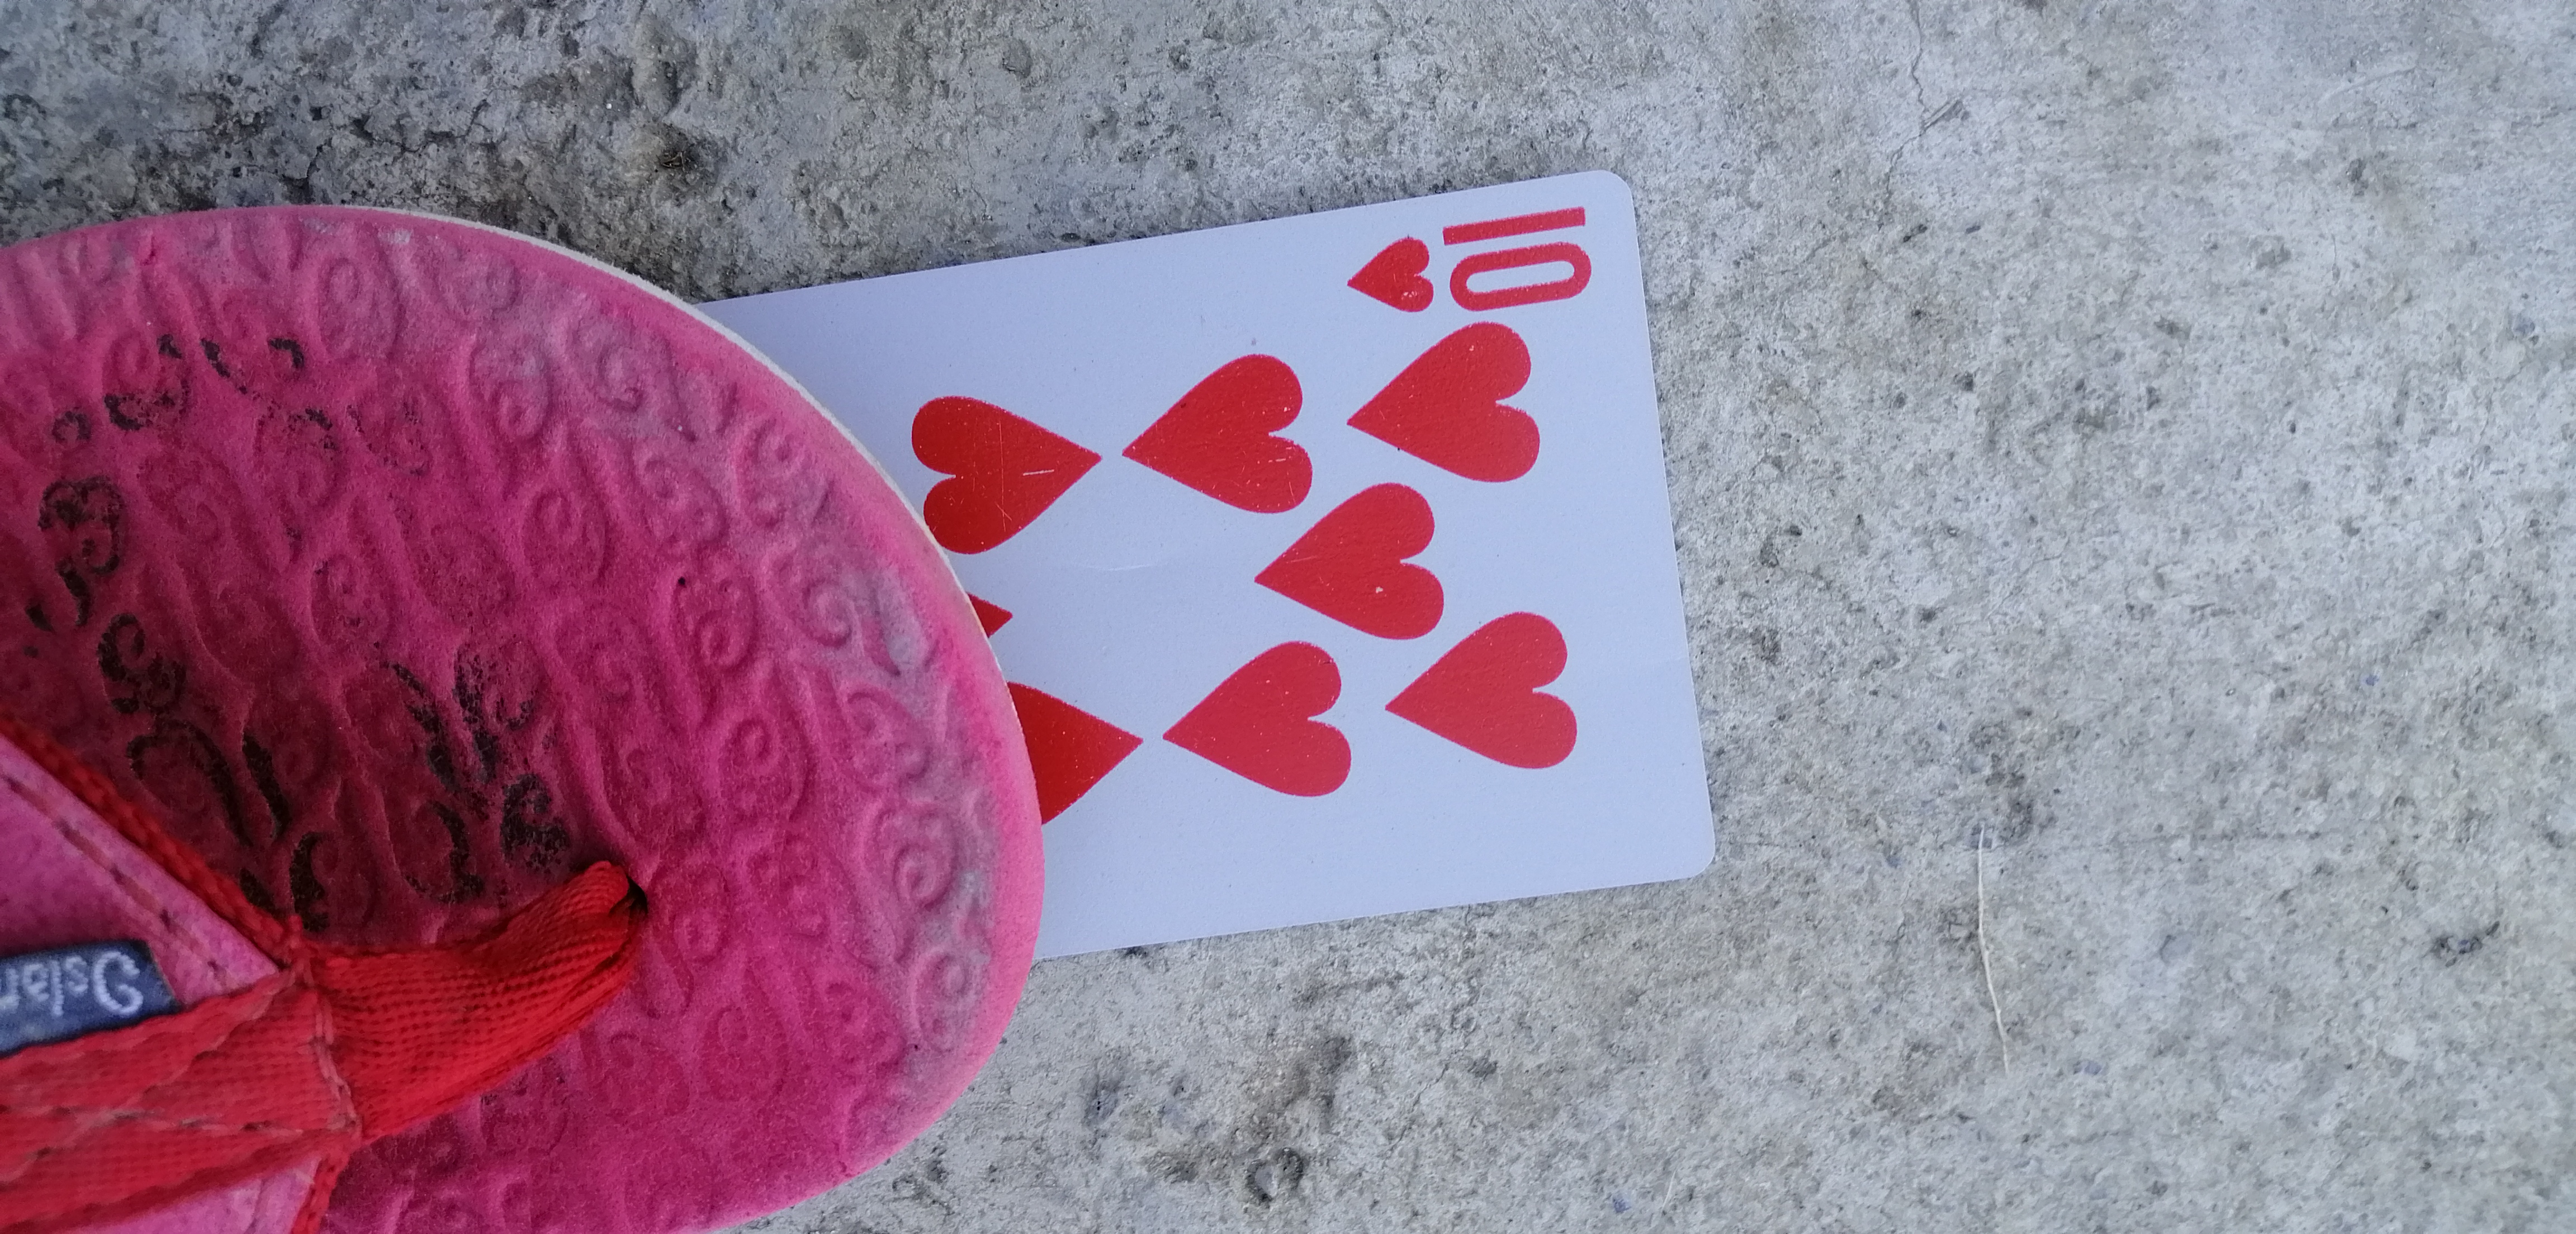ten: (654, 182, 1748, 955)
